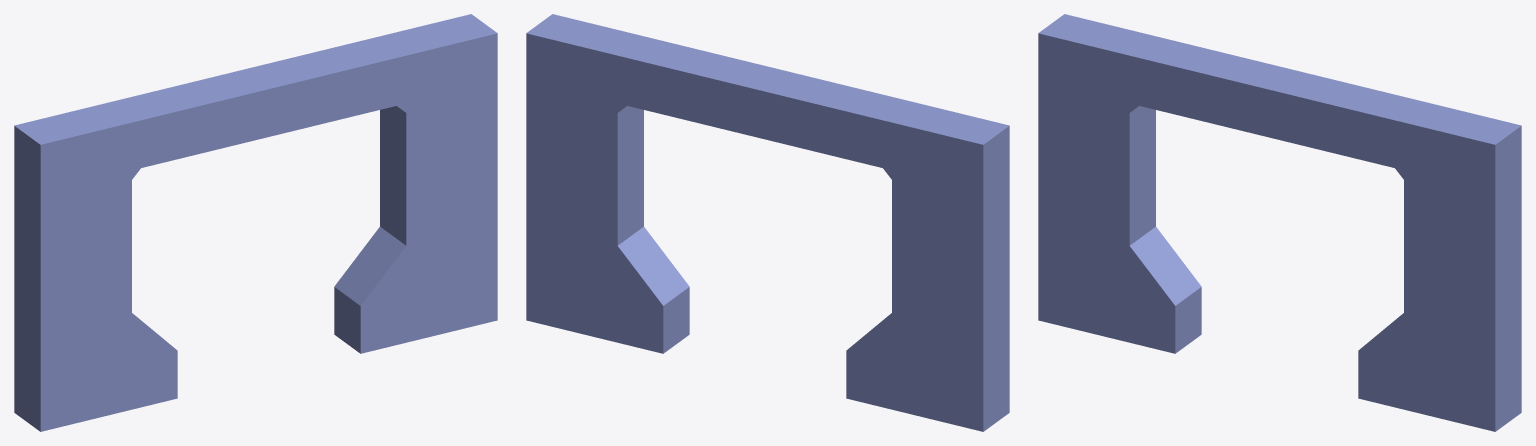
The model's file is wallDoor_sm 1.fbx.
The picture shows the model from 3 angles, left to right: view 1: azimuth 30°, elevation 25°; view 2: azimuth 150°, elevation 25°; view 3: azimuth 330°, elevation 25°; orthographic projection.
Visible parts, largest first — view 1: wallDoor_sm; view 2: wallDoor_sm; view 3: wallDoor_sm.
Part boxes in pixels (x1=…): wallDoor_sm: x1=14, y1=14, x2=497, y2=431; wallDoor_sm: x1=526, y1=14, x2=1009, y2=431; wallDoor_sm: x1=1038, y1=14, x2=1521, y2=431.
Bounding box in the file's own units: 1000 × 600 × 100.
